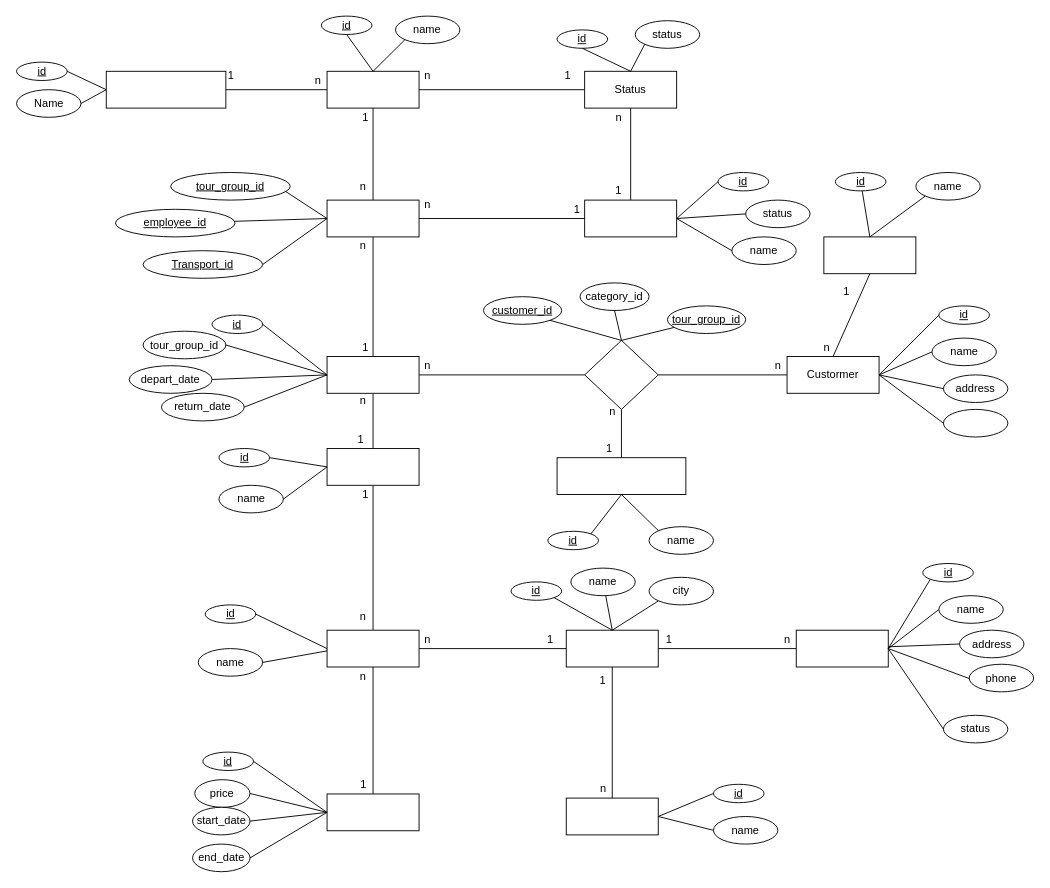
The diagram is 1050 pixels wide and 888 high, and some of its shapes have lost their labels. The shapes that lost their labels are listed below. From the top down, each one's centre as x and y in pixels, then its label:
At (x=165, y=89): "EmployeeRole".
At (x=372, y=89): "Employee".
At (x=372, y=218): "TourGroupDetail".
At (x=630, y=218): "Transport".
At (x=869, y=255): "Gender".
At (x=372, y=374): "TourGroup".
At (x=621, y=374): "Passenqer".
At (x=975, y=422): "nationality".
At (x=372, y=466): "TourCategory".
At (x=621, y=475): "PassenqerCategory".
At (x=372, y=648): "Tour".
At (x=611, y=648): "Destination".
At (x=841, y=648): "Hotel".
At (x=372, y=812): "TourPrice".
At (x=611, y=816): "TourSite".
